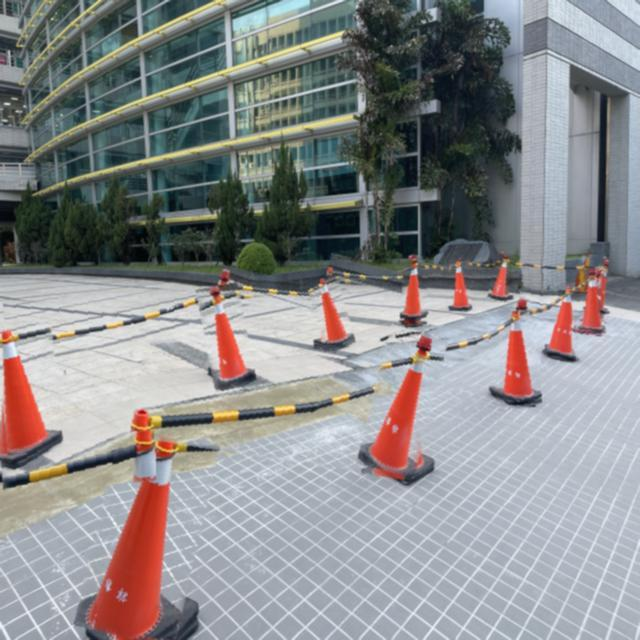traffic cone: (83, 427, 201, 640), (357, 335, 435, 486), (0, 330, 63, 468), (207, 287, 256, 391), (489, 312, 543, 406), (313, 279, 355, 350), (542, 295, 578, 363), (573, 272, 606, 336), (399, 257, 429, 327), (448, 259, 473, 312), (487, 257, 514, 302), (596, 262, 611, 315), (217, 268, 231, 287)
